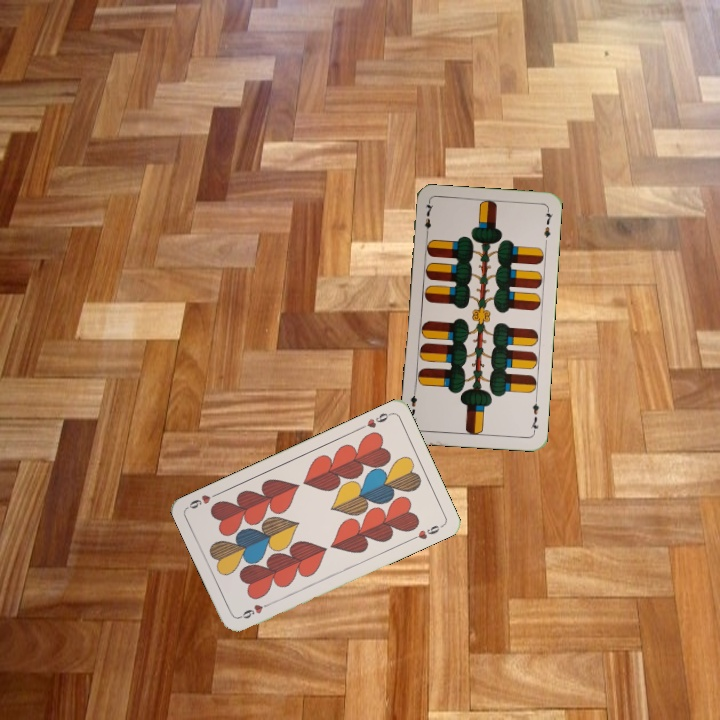E7: (421, 199, 436, 240), (527, 395, 542, 435)
H9: (235, 599, 274, 622), (356, 409, 394, 432)
